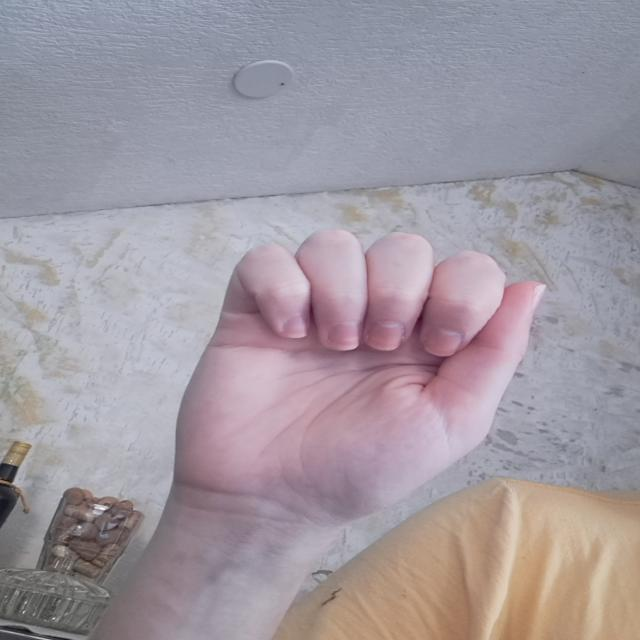A: (164, 220, 552, 508)
